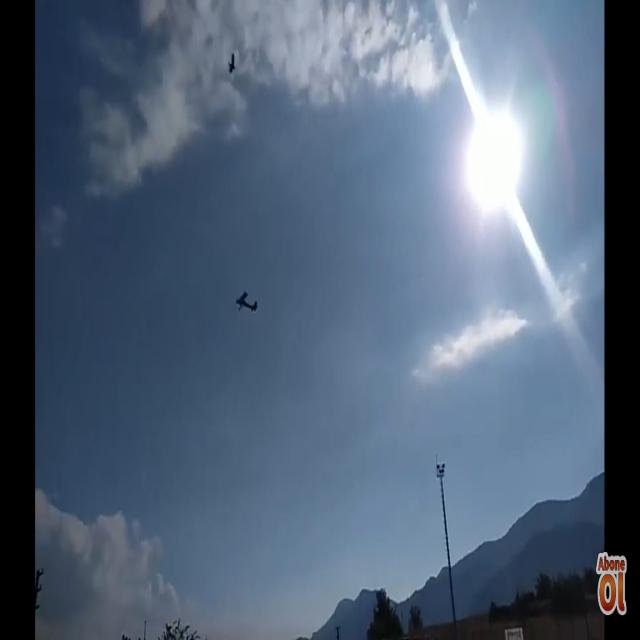iha: (236, 292, 258, 314), (231, 52, 233, 75)
